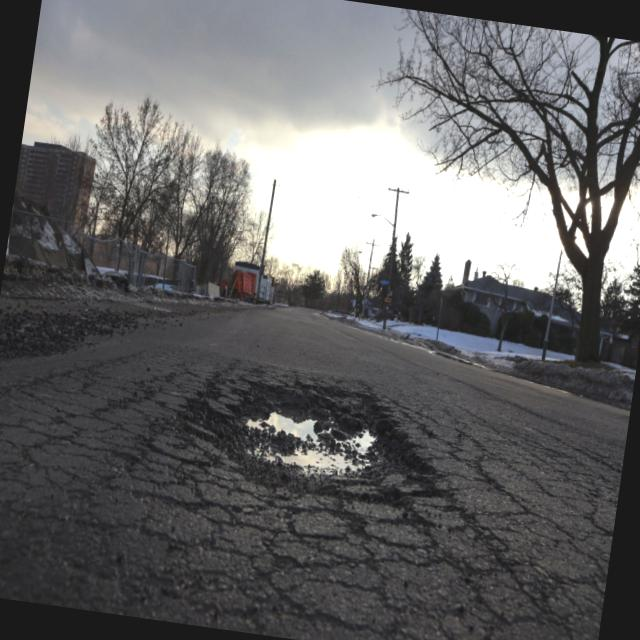bad-road: (178, 369, 456, 523)
